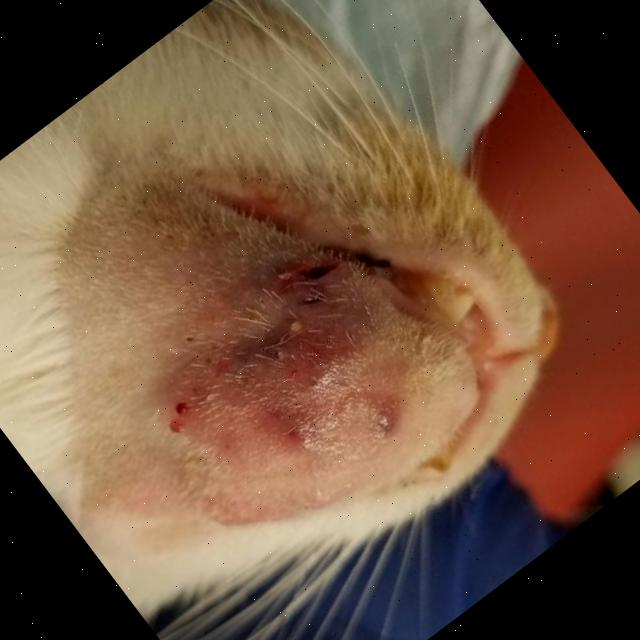cat-dermatitis: (128, 257, 415, 542), (166, 392, 196, 422), (368, 407, 398, 435), (282, 312, 310, 340), (166, 414, 190, 440)
